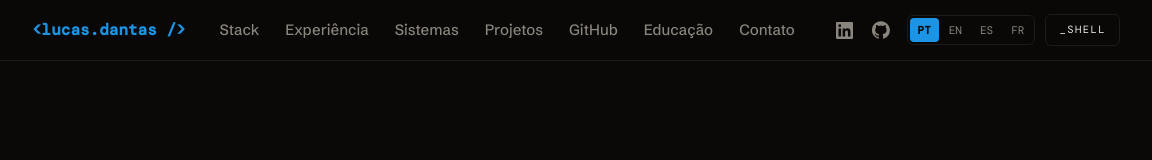
Scenario: Navbar — idioma › troca o idioma para EN e traduz os links
The width and height of the screenshot is (1152, 160).
What coordinates should you click on to do the following:
click the button "EN"
I would click on:
 (955, 30)
Its box is top-left (941, 18), bottom-right (970, 42).
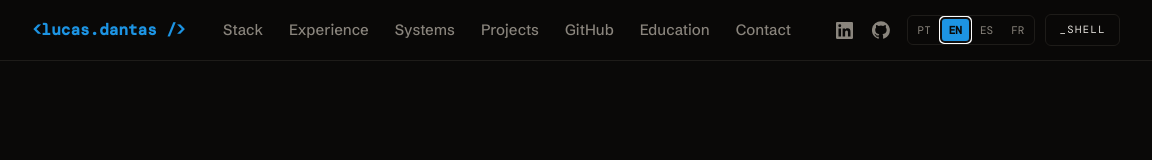
Check: the link "Experience" is shown, box top-left (289, 15), bottom-right (369, 45)
